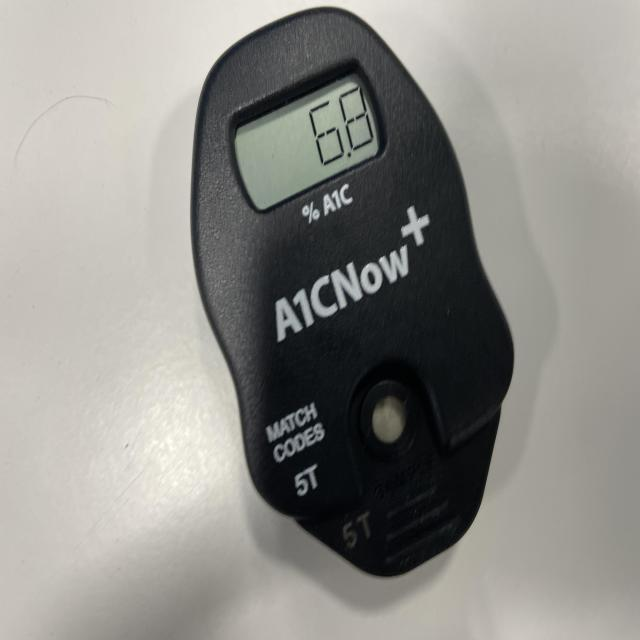hba1c: (189, 6, 516, 582)
